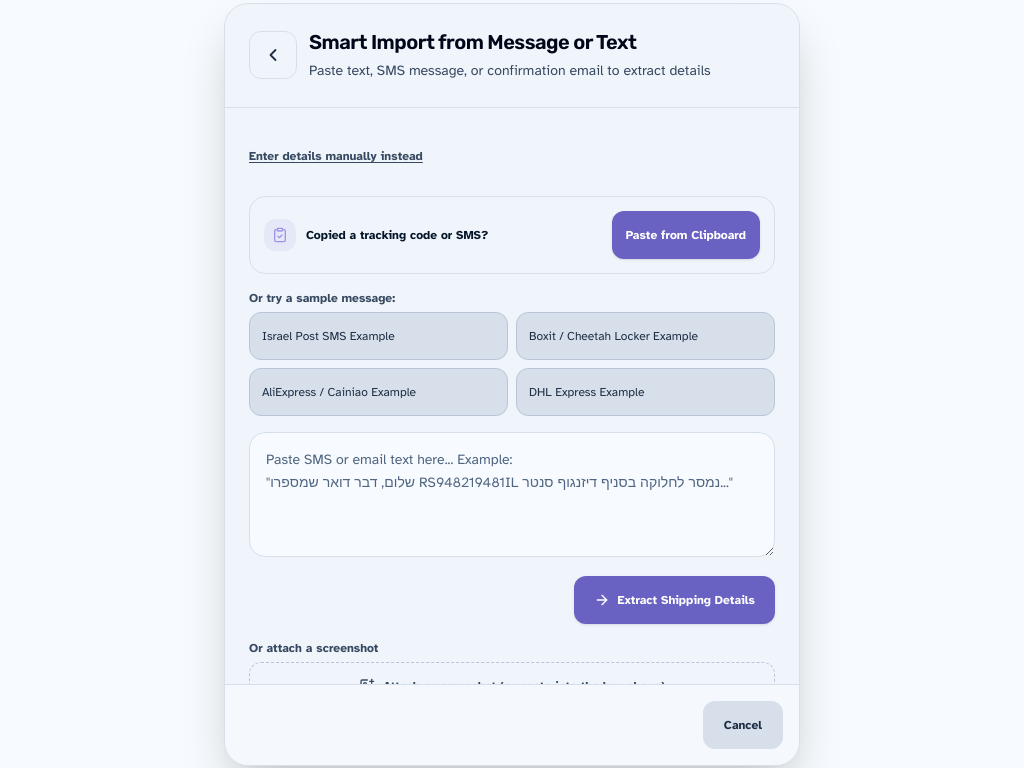
Scenario: SmartImportModal — AI fallback (rendered) › falls through to the no-match state when the AI fallback also finds nothing
Type "totally unrelated text" into the text box at (512, 494), box [249, 431, 775, 556]
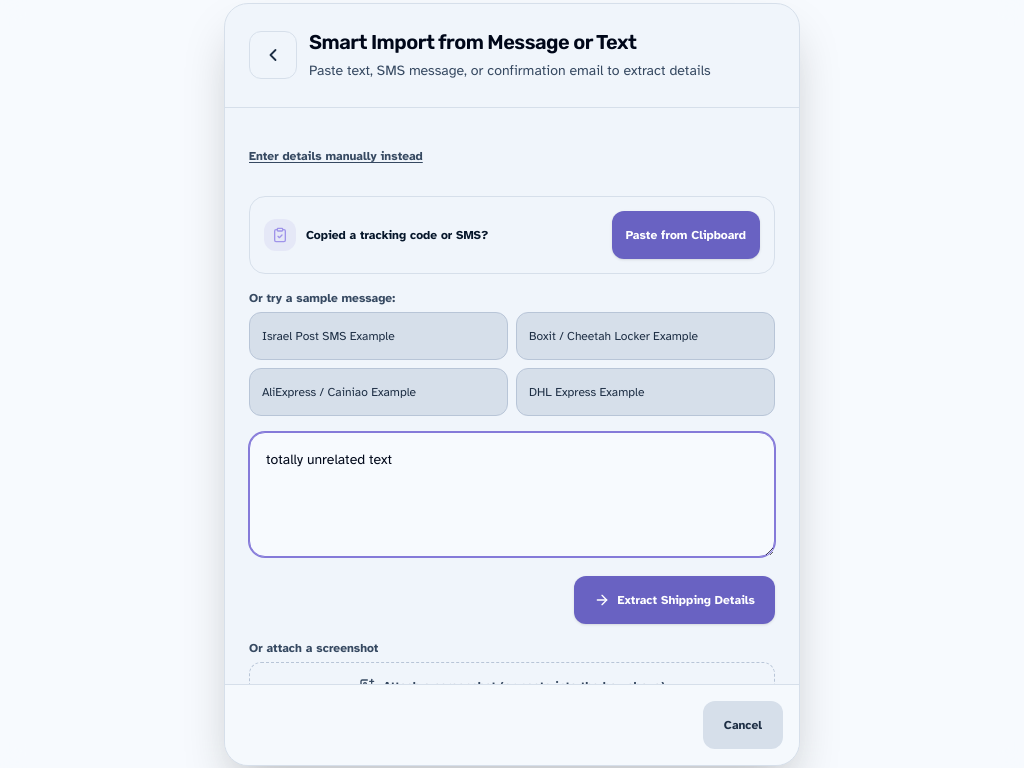
Click the button "Extract Shipping Details" at (674, 599), box [574, 575, 775, 623]
(page scrolled)
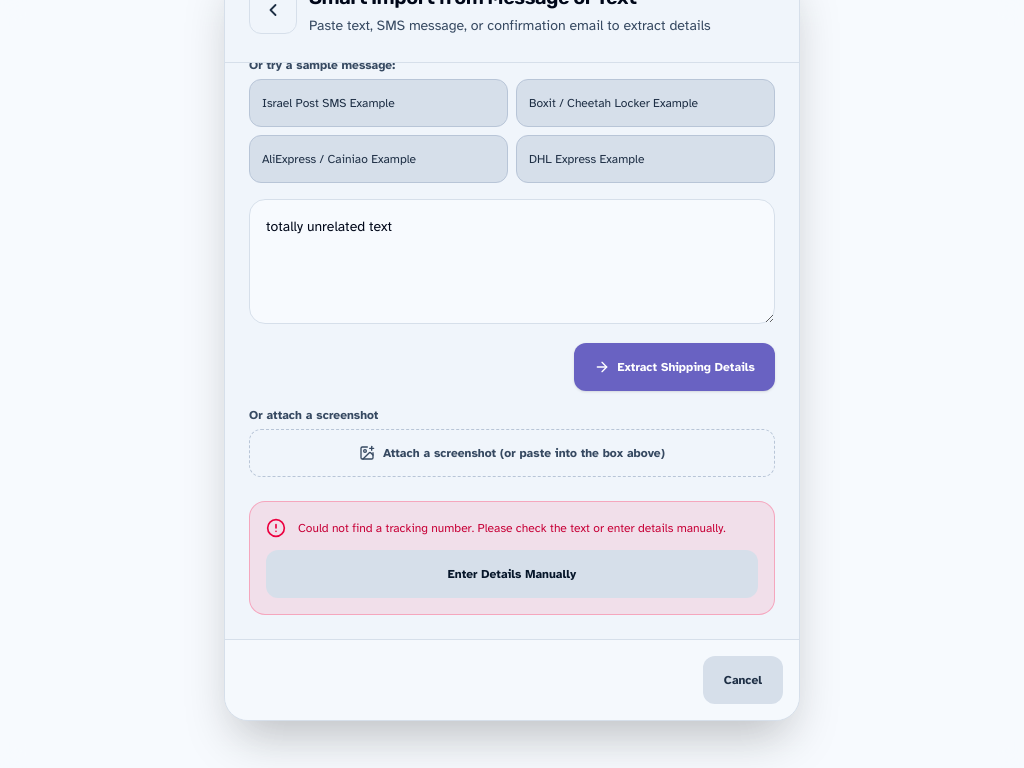
Result: the button "Enter Details Manually" is shown at [266, 549, 758, 597]
